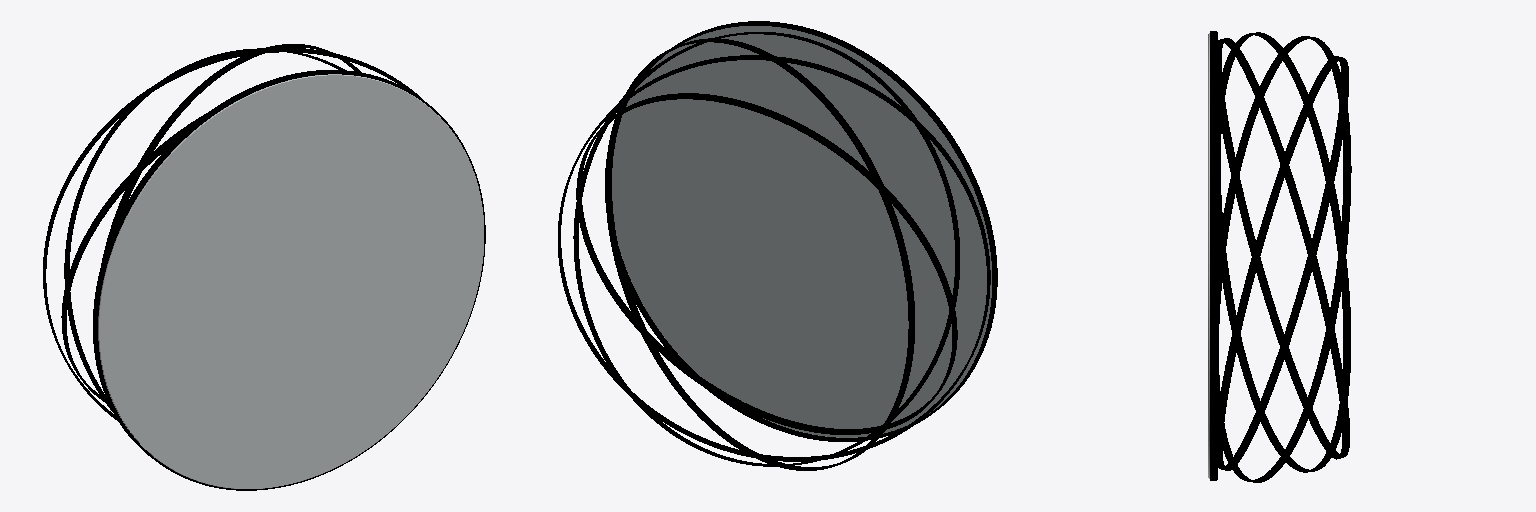
Rendered from table.obj.
3 views of the same model, side by side, from view 1: azimuth 30°, elevation 25°; view 2: azimuth 150°, elevation 25°; view 3: azimuth 270°, elevation 25° (orthographic).
Visible parts, largest first — view 1: Roche_Bobois_Evol_Table_110_mat3; view 2: Roche_Bobois_Evol_Table_110_mat3; view 3: Roche_Bobois_Evol_Table_110_mat3.
Boxes of the visible parts, box(x1,y1,x2,y2) form: Roche_Bobois_Evol_Table_110_mat3: box(43, 44, 485, 490); Roche_Bobois_Evol_Table_110_mat3: box(558, 21, 997, 470); Roche_Bobois_Evol_Table_110_mat3: box(1208, 31, 1351, 482).
Size of the model in its own units: 110 by 110 by 35.